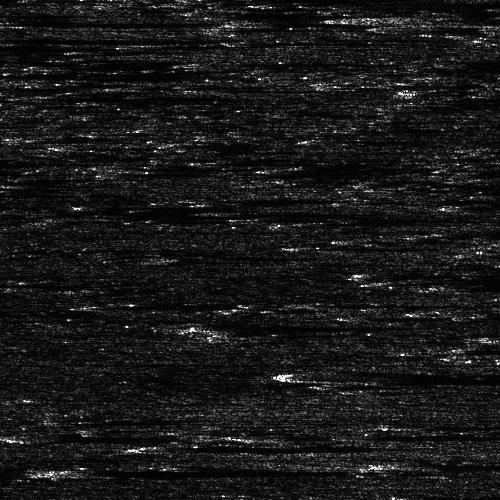object: (153, 318, 236, 335), (0, 93, 106, 102), (441, 351, 500, 366), (17, 468, 90, 479), (0, 15, 62, 24), (380, 461, 443, 468), (271, 374, 334, 379), (467, 334, 500, 343), (483, 257, 500, 266), (0, 36, 14, 43)
shadow: (195, 318, 361, 335), (53, 468, 274, 479), (5, 15, 188, 24), (49, 93, 229, 102), (0, 36, 163, 43), (0, 306, 117, 315), (412, 461, 500, 468), (303, 374, 360, 379)
